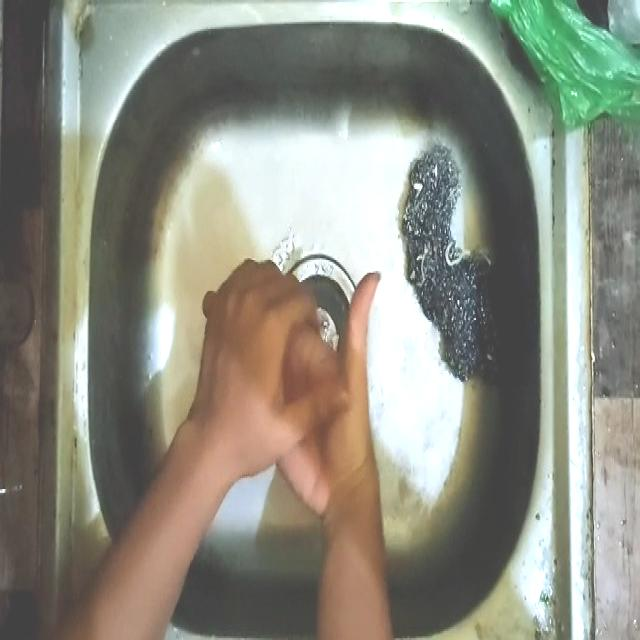step_5: (195, 251, 392, 509)
